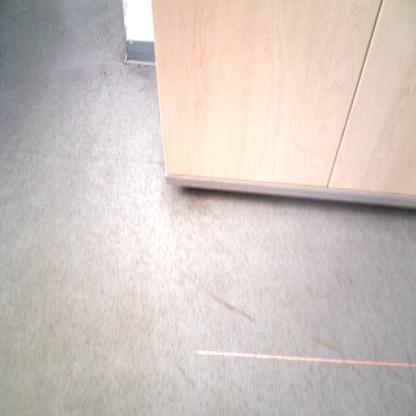mark: (205, 288, 257, 324), (176, 362, 193, 388), (315, 336, 340, 353), (352, 366, 365, 381), (137, 86, 145, 94)
